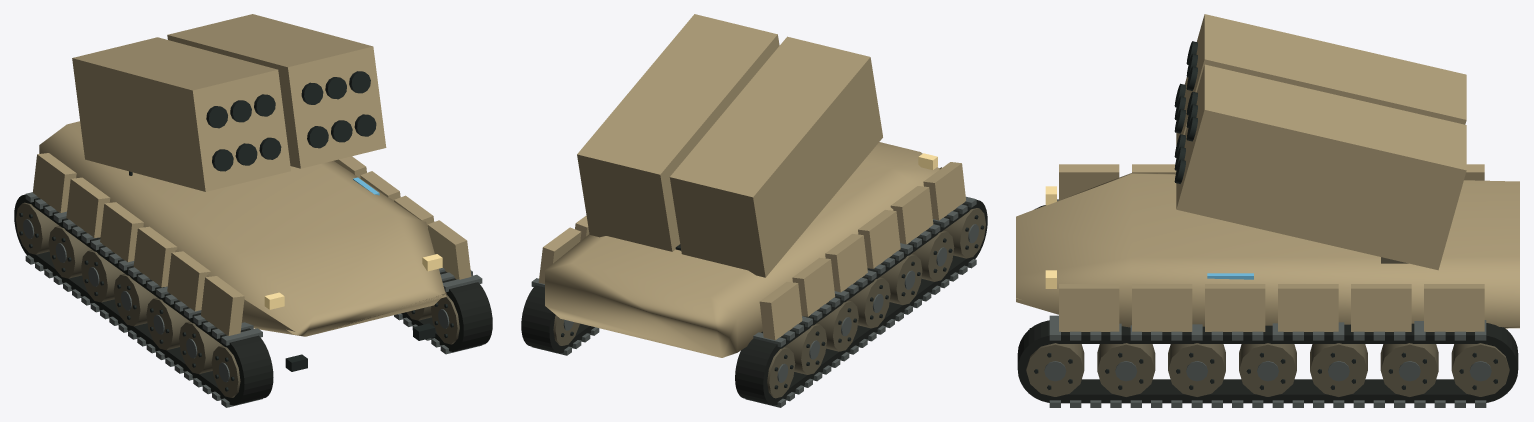
Rendered from mlrs.glb.
3 views of the same model, side by side, from view 1: azimuth 30°, elevation 25°; view 2: azimuth 150°, elevation 25°; view 3: azimuth 270°, elevation 25° (orthographic). The views are drawn at different scales.
Visible parts, largest first — view 1: armor (×2), trim, rubber, steel, dark (×2), lamp; view 2: armor (×2), trim, rubber, steel, dark; view 3: armor (×2), trim, rubber, steel, dark (×2).
Part boxes in pixels (left/top/right/bottom): armor (×2): left=33, top=14, right=471, bottom=336; trim: left=16, top=202, right=459, bottom=397; rubber: left=14, top=194, right=492, bottom=405; steel: left=23, top=192, right=482, bottom=407; dark (×2): left=19, top=71, right=453, bottom=391; lamp: left=264, top=254, right=442, bottom=309; armor (×2): left=538, top=14, right=965, bottom=357; trim: left=553, top=208, right=985, bottom=398; rubber: left=521, top=200, right=987, bottom=405; steel: left=531, top=196, right=978, bottom=407; dark: left=561, top=215, right=984, bottom=389; armor (×2): left=1016, top=14, right=1519, bottom=331; trim: left=1026, top=343, right=1509, bottom=396; rubber: left=1017, top=205, right=1518, bottom=403; steel: left=1044, top=199, right=1491, bottom=407; dark (×2): left=1029, top=41, right=1497, bottom=389.
Bounding box in the file's own units: 3.46 × 3.29 × 5.4.
